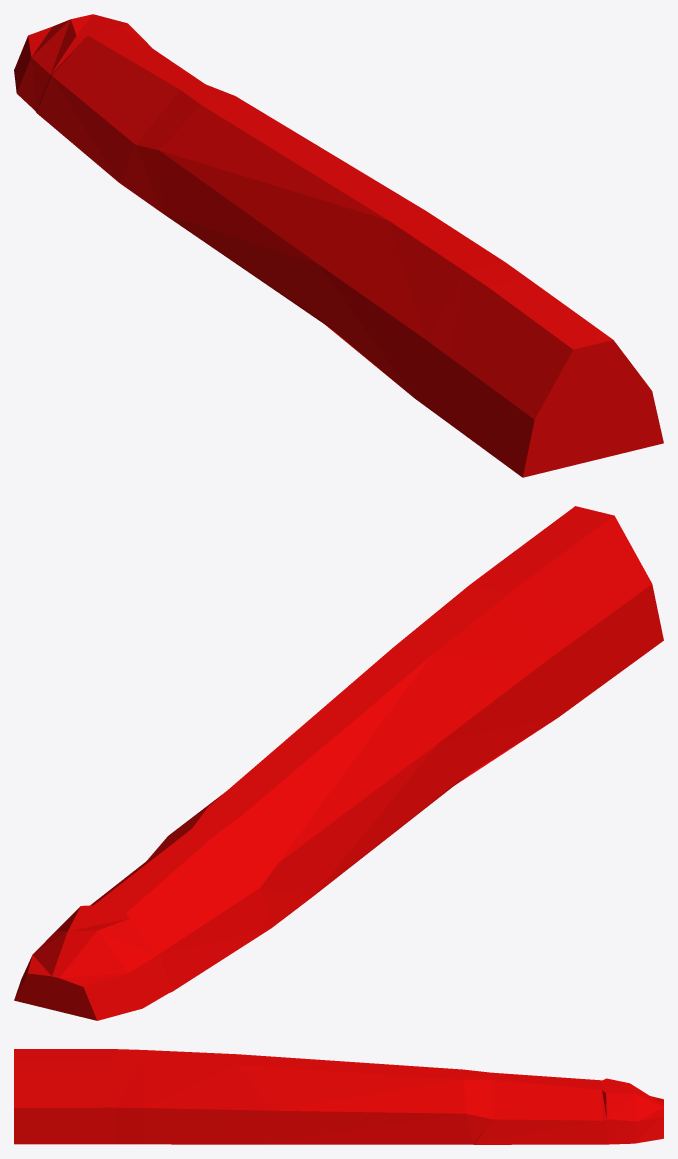
The picture shows the model from 3 angles, top to bottom: view 1: azimuth 30°, elevation 25°; view 2: azimuth 150°, elevation 25°; view 3: azimuth 270°, elevation 25°; orthographic projection. The views are drawn at different scales.
Parts seen in each view (by area): view 1: collision_box; view 2: collision_box; view 3: collision_box.
Part boxes in pixels (x1,y1,x2,y2): collision_box: [14, 14, 663, 477]; collision_box: [14, 506, 663, 1020]; collision_box: [14, 1049, 663, 1144].
Bounding box in the file's own units: 56.58 × 43.65 × 372.
